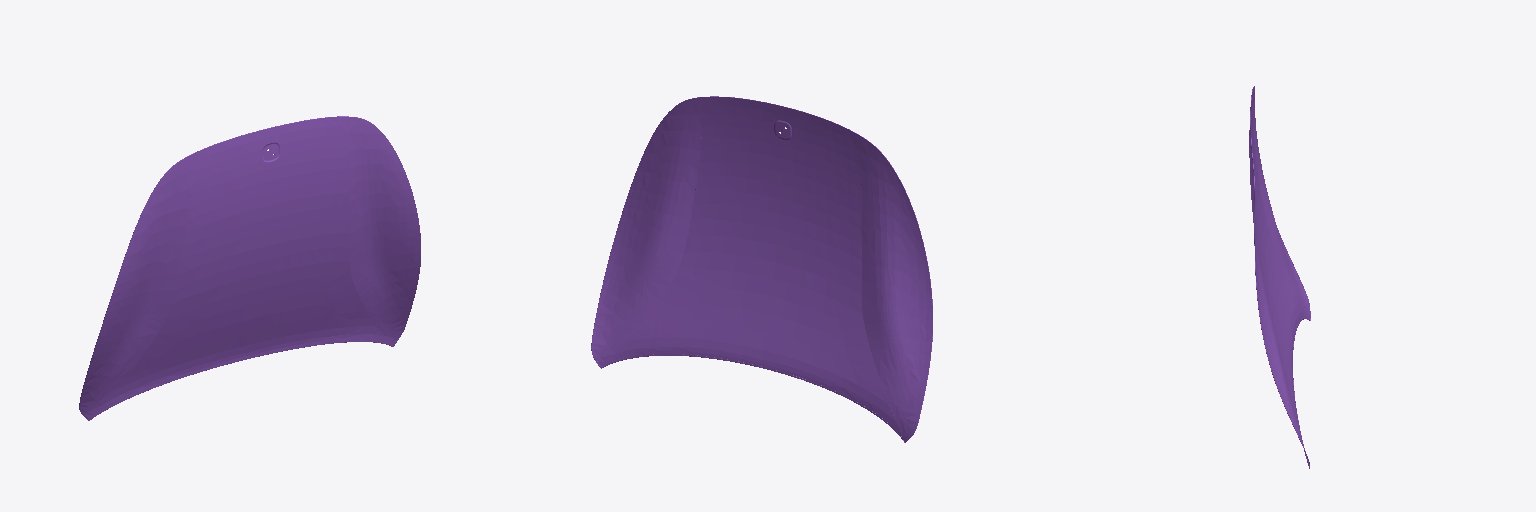
The model's file is car_hood.obj.
The picture shows the model from 3 angles: view 1: azimuth 30°, elevation 25°; view 2: azimuth 150°, elevation 25°; view 3: azimuth 270°, elevation 25°; orthographic projection.
Bounding box in the file's own units: 1627 × 1316 × 263.